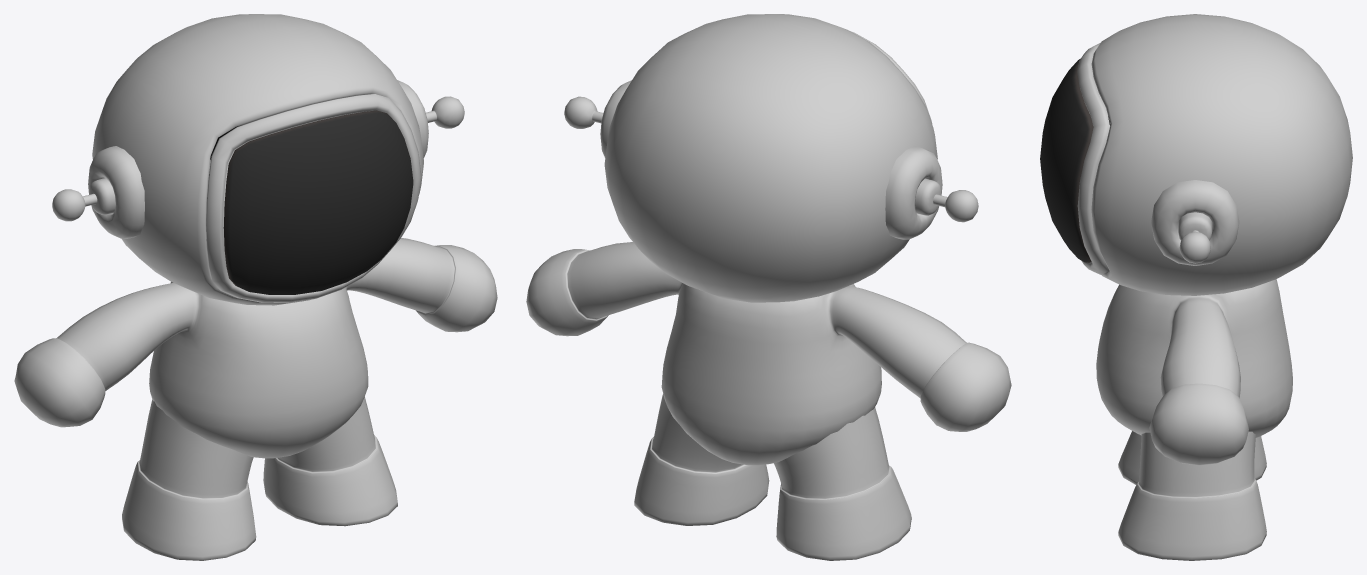
3 views of the same model, side by side, from view 1: azimuth 30°, elevation 25°; view 2: azimuth 150°, elevation 25°; view 3: azimuth 270°, elevation 25° (orthographic). The views are drawn at different scales.
Visible parts, largest first — view 1: body_geo, head_geo, face_glass_geo, rt_leg_geo, lt_leg_geo, face_Frame_geo, rt_earbud_geo, rt_anten_geo, lt_anten_geo, rt_ear_geo, lt_earbud_geo; view 2: head_geo, body_geo, rt_leg_geo, lt_leg_geo, rt_earbud_geo, rt_anten_geo, lt_anten_geo, rt_ear_geo, lt_earbud_geo; view 3: head_geo, body_geo, lt_leg_geo, face_glass_geo, lt_earbud_geo, face_Frame_geo, rt_leg_geo, lt_anten_geo, lt_ear_geo.
Boxes of the visible parts, left/top/right/bottom form: body_geo: left=14, top=238, right=497, bottom=458; head_geo: left=92, top=14, right=423, bottom=305; face_glass_geo: left=223, top=110, right=413, bottom=294; rt_leg_geo: left=122, top=399, right=256, bottom=560; lt_leg_geo: left=263, top=397, right=397, bottom=526; face_Frame_geo: left=206, top=94, right=421, bottom=302; rt_earbud_geo: left=88, top=146, right=144, bottom=238; rt_anten_geo: left=52, top=189, right=97, bottom=221; lt_anten_geo: left=426, top=96, right=464, bottom=128; rt_ear_geo: left=89, top=178, right=115, bottom=214; lt_earbud_geo: left=397, top=80, right=428, bottom=157; head_geo: left=604, top=14, right=937, bottom=302; body_geo: left=526, top=242, right=1011, bottom=465; rt_leg_geo: left=774, top=407, right=911, bottom=560; lt_leg_geo: left=634, top=394, right=769, bottom=525; rt_earbud_geo: left=885, top=146, right=942, bottom=239; rt_anten_geo: left=933, top=190, right=978, bottom=222; lt_anten_geo: left=564, top=96, right=603, bottom=128; rt_ear_geo: left=915, top=178, right=941, bottom=215; lt_earbud_geo: left=600, top=80, right=631, bottom=157; head_geo: left=1091, top=14, right=1352, bottom=295; body_geo: left=1096, top=279, right=1292, bottom=465; lt_leg_geo: left=1118, top=431, right=1266, bottom=560; face_glass_geo: left=1040, top=58, right=1093, bottom=262; lt_earbud_geo: left=1151, top=180, right=1239, bottom=265; face_Frame_geo: left=1077, top=43, right=1109, bottom=274; rt_leg_geo: left=1118, top=431, right=1266, bottom=484; lt_anten_geo: left=1179, top=230, right=1210, bottom=263; lt_ear_geo: left=1178, top=212, right=1212, bottom=240.
Bounding box in the file's own units: 0.0887 × 0.0879 × 0.0532.
